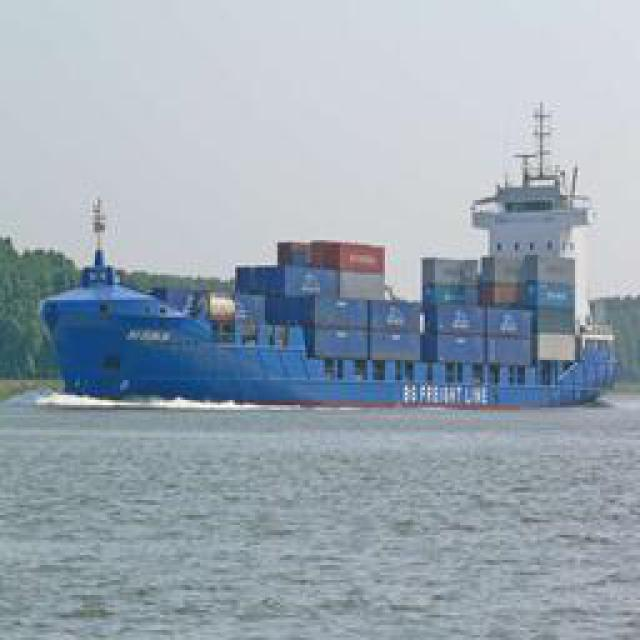Ship: (38, 160, 623, 410)
